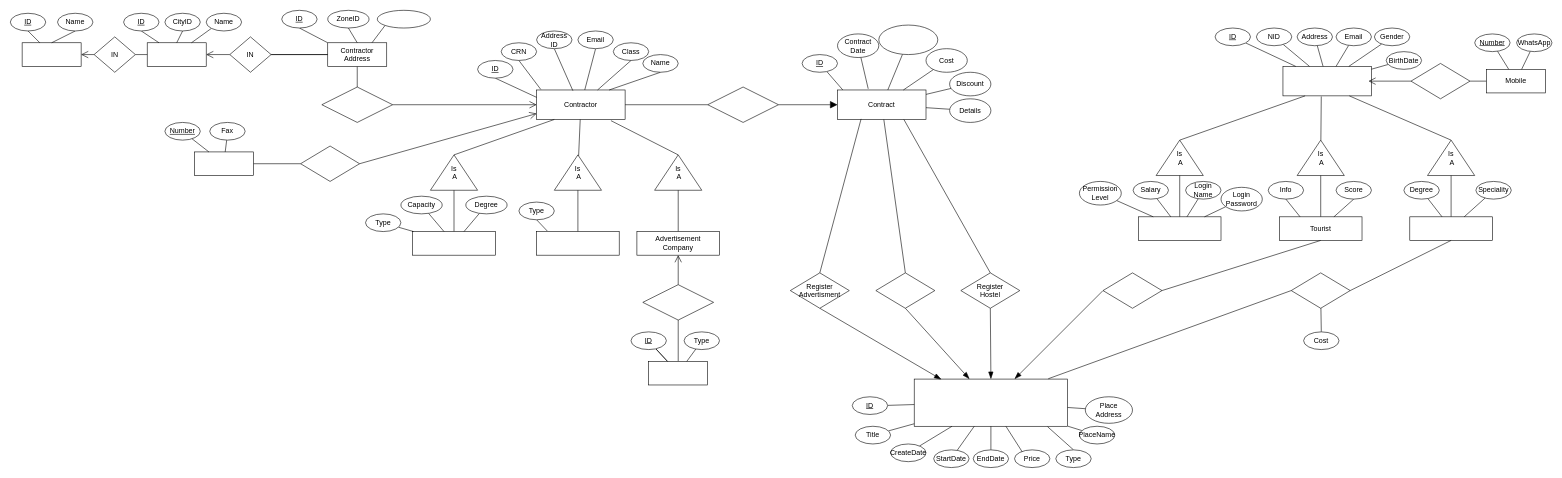
This 1562x478 diagram has some shape labels left out. The shapes that lost their labels are listed below. From the top down, each one's centre as x and y in pixels, then its label:
At point 403,19: "LocalAddress".
At point 908,39: "Contract Termination Date".
At point 51,54: "City".
At point 176,54: "Zone".
At point 1326,81: "Person".
At point 1440,81: "Has Mobile".
At point 357,104: "Location".
At point 743,104: "Make Contract".
At point 223,163: "Contractor Phone".
At point 330,163: "Has Phone".
At point 453,243: "Hostel".
At point 577,243: "Transport Company".
At point 1179,228: "Employee".
At point 1450,228: "Guide".
At point 678,302: "Available Media".
At point 905,290: "Register Transport".
At point 1132,290: "Register Tourist".
At point 1320,290: "Register Guide".
At point 678,373: "Media".
At point 991,402: "Travel".
